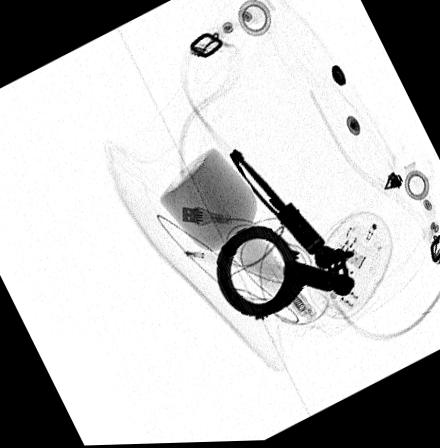HandCuffs: (214, 147, 357, 325)
